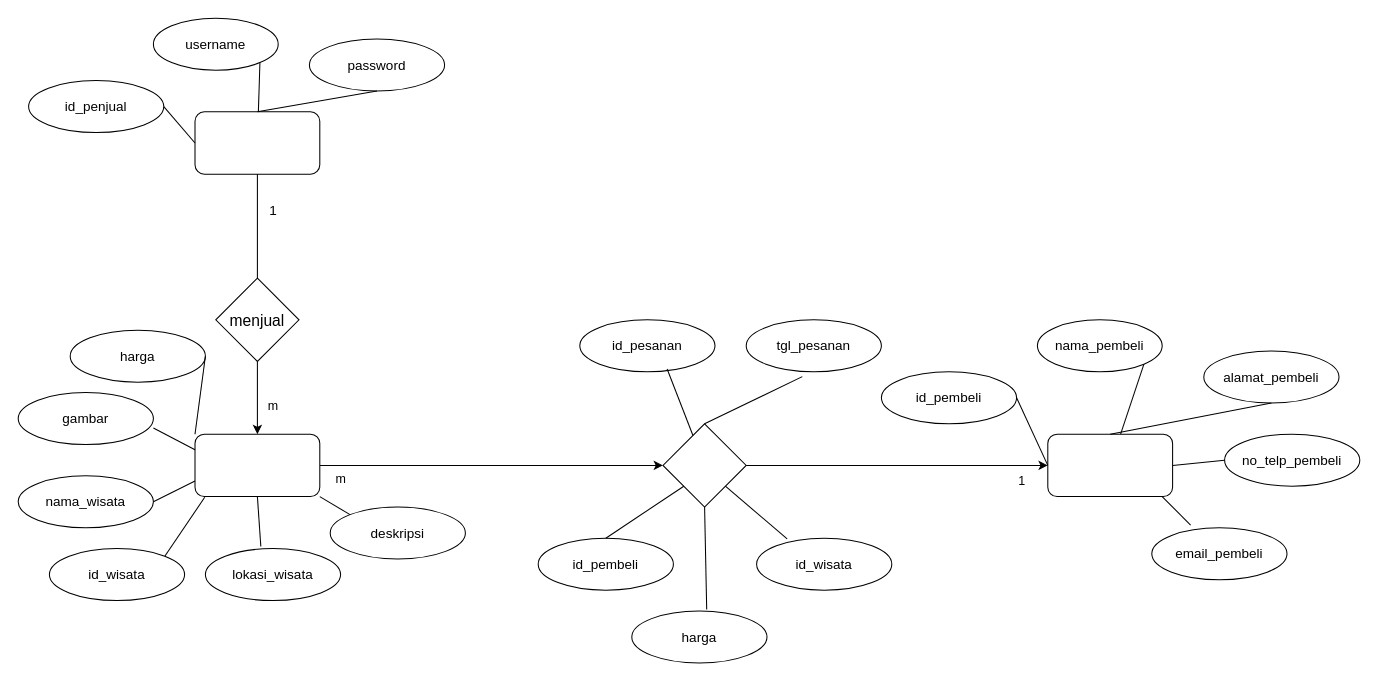
Image size: 1378x681. Some labels were removed from this diagram. The shapes that lost their labels are listed below. From the top down, each one's centre as x and y in pixels, then its label:
At (257,142): "penjual".
At (257,465): "jasa_wisata".
At (704,465): "memesan".
At (1110,465): "pembeli".
